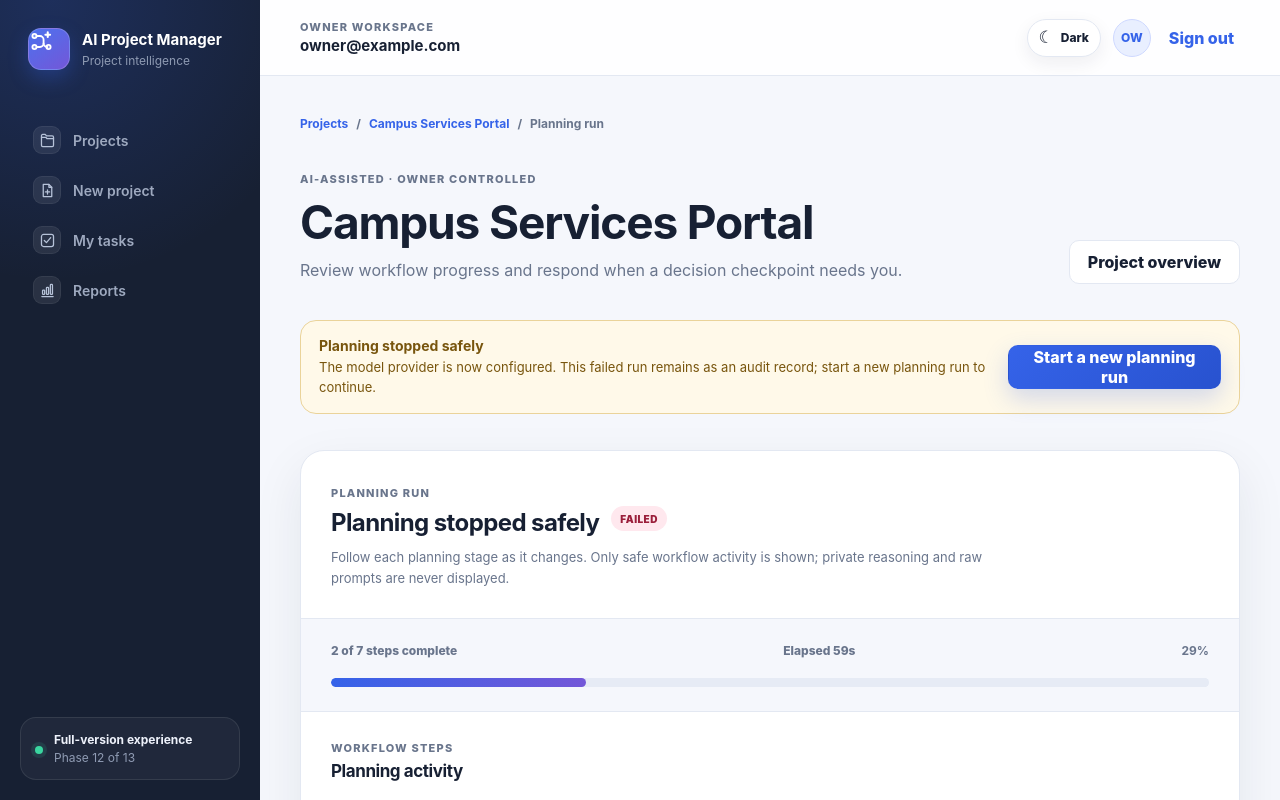
Scenario: planning and clarification experience › offers a fresh run after the provider is configured
Expected: the text "The model provider is now configured. This failed run remains as an audit record; start a new planning run to continue." is shown, top-left (319, 359), bottom-right (985, 395)
Click the button "Start a new planning run" at (1115, 367), box top-left (1008, 345), bottom-right (1221, 389)
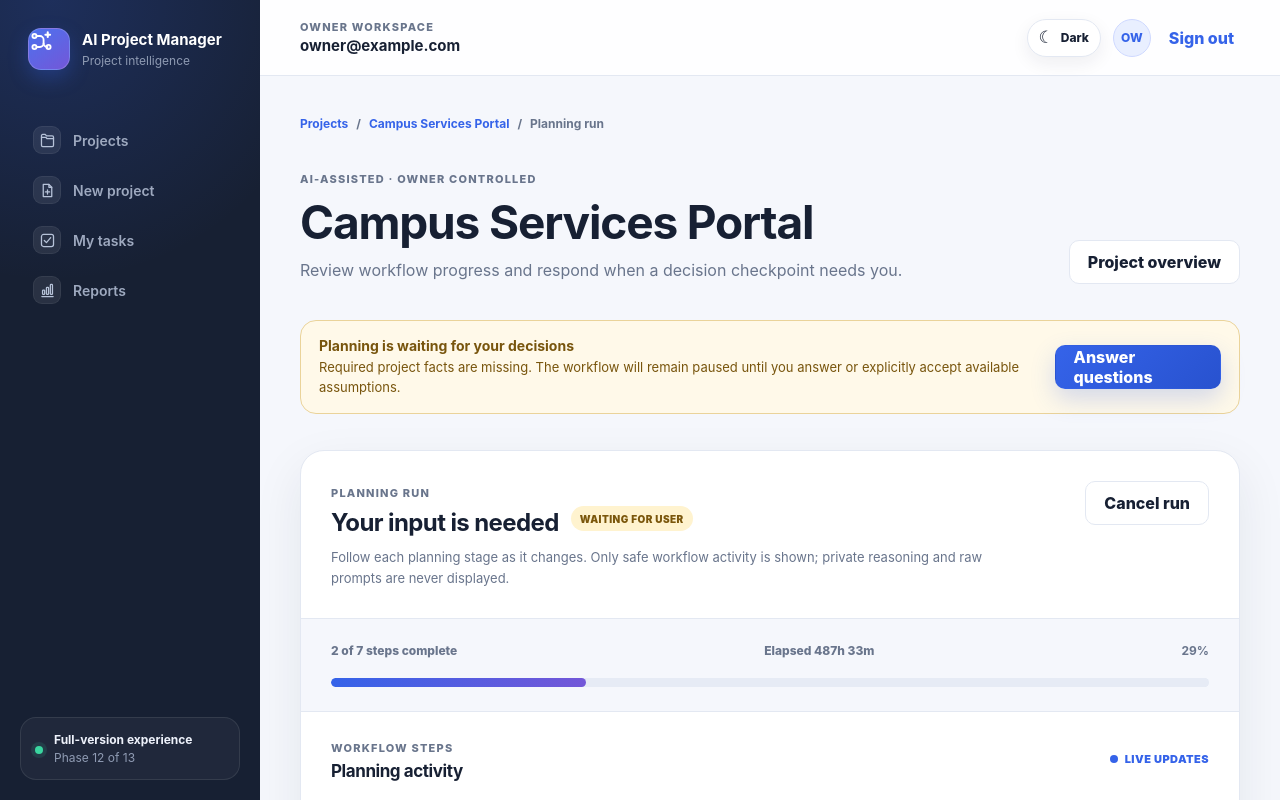
Now the text "Planning is waiting for your decisions" is shown, box top-left (319, 337), bottom-right (574, 354)
